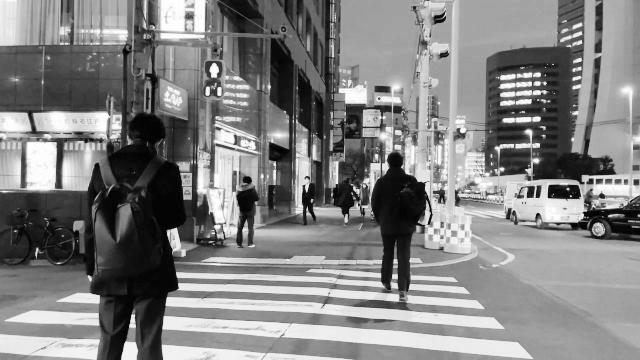berdiri: (90, 109, 184, 360), (227, 170, 265, 250)
berjalan: (361, 141, 427, 316)
